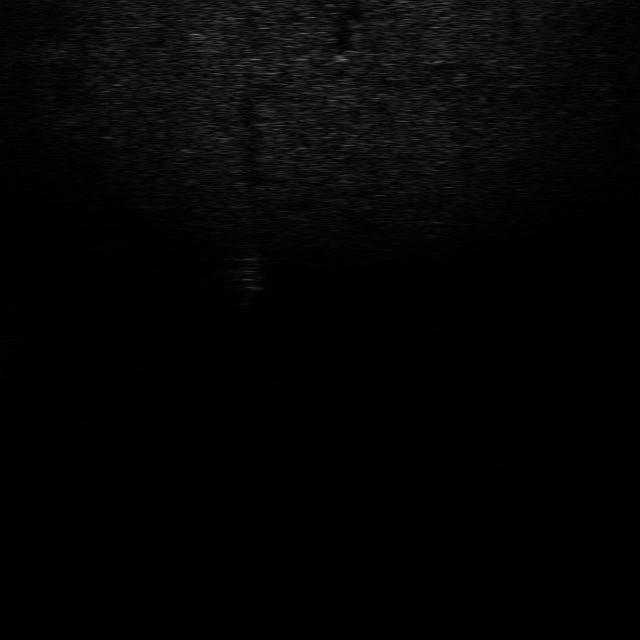human body: (225, 250, 267, 313)
